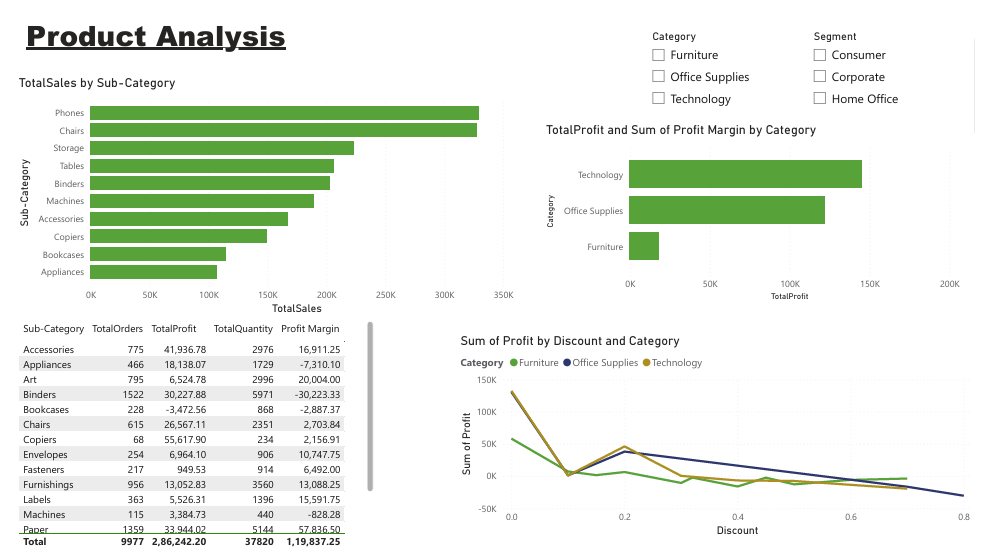

The dashboard page shown, as its layout file describes it:
{"tool":"powerbi","page":{"name":"Product Analysis","canvas":[1280,720],"ordinal":1},"visuals":[{"type":"textbox","box":[10.2,0,490.2,69.8],"z":0},{"type":"textbox","box":[10,290,280,280],"z":1000},{"type":"textbox","box":[10,570,280,150],"z":2000},{"type":"clusteredBarChart","fields":{"Y":["ecom sales.TotalSales"],"Category":["ecom sales.Sub-Category"]},"box":[0,83.5,669.6,324],"z":3000},{"type":"clusteredBarChart","fields":{"Category":["ecom sales.Category"],"Y":["ecom sales.TotalProfit"]},"box":[702.5,146.9,562.9,242.9],"z":4000},{"type":"tableEx","fields":{"Values":["ecom sales.Sub-Category","ecom sales.TotalOrders","ecom sales.TotalProfit","ecom sales.TotalQuantity","Sum(ecom sales.Profit Margin)"]},"box":[0,407.3,482.9,312.7],"z":5000},{"type":"lineChart","fields":{"Category":["ecom sales.Discount"],"Y":["Sum(ecom sales.Profit)"],"Series":["ecom sales.Category"]},"box":[589.1,427.6,690.9,277.8],"z":6000},{"type":"slicer","fields":{"Values":["ecom sales.Category"]},"box":[836.6,18.7,185.8,128.2],"z":7000},{"type":"slicer","fields":{"Values":["ecom sales.Segment"]},"box":[1051.6,18.9,190.5,128],"z":8000}]}

Visuals, with their boxes in screenshot pixels (x1, y1, x2, y2), scaled from the page's 1280x720 canvas onto the 989x553 screenshot:
textbox: 8:0:387:54
textbox: 8:223:224:438
textbox: 8:438:224:552
clusteredBarChart - ecom sales.TotalSales x ecom sales.Sub-Category: 0:64:517:313
clusteredBarChart - ecom sales.Category x ecom sales.TotalProfit: 543:113:978:299
tableEx - ecom sales.Sub-Category x ecom sales.TotalOrders: 0:313:373:552
lineChart - ecom sales.Discount x Sum(ecom sales.Profit): 455:328:988:542
slicer - ecom sales.Category: 646:14:790:113
slicer - ecom sales.Segment: 813:15:960:113
